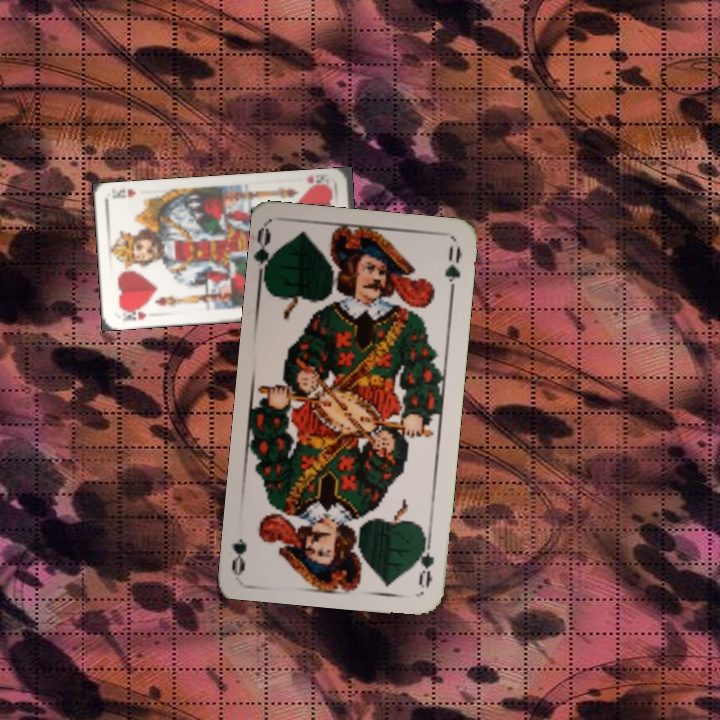GO: (254, 225, 282, 285), (412, 531, 437, 591)
HK: (301, 172, 334, 192), (118, 304, 148, 324)
